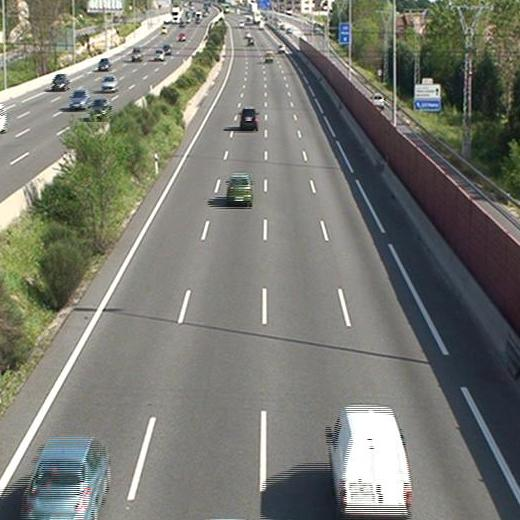car: (20, 440, 110, 520), (226, 176, 252, 204), (240, 107, 256, 129)
van: (329, 409, 413, 520), (264, 51, 274, 63)
